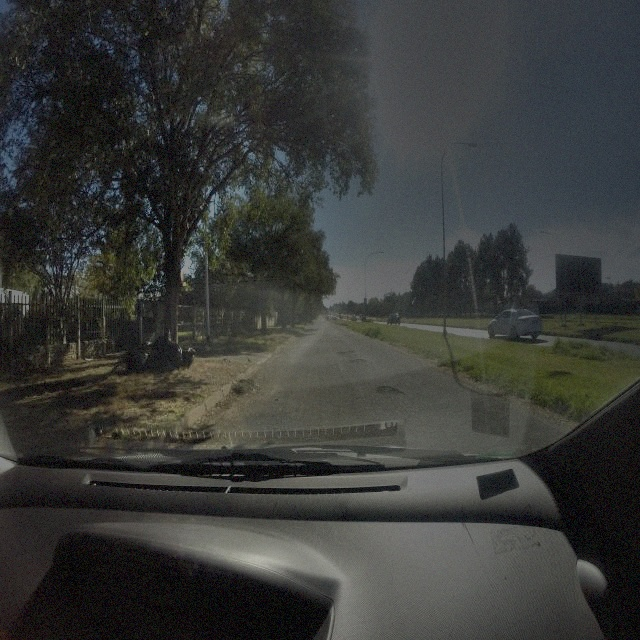pothole: (375, 383, 404, 395), (336, 350, 355, 357), (350, 358, 368, 365)
